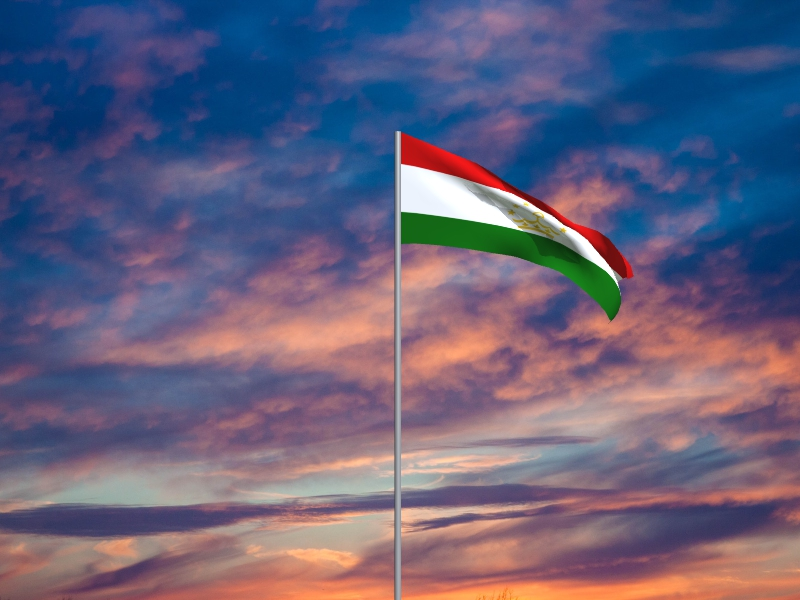tj: (402, 134, 636, 323)
